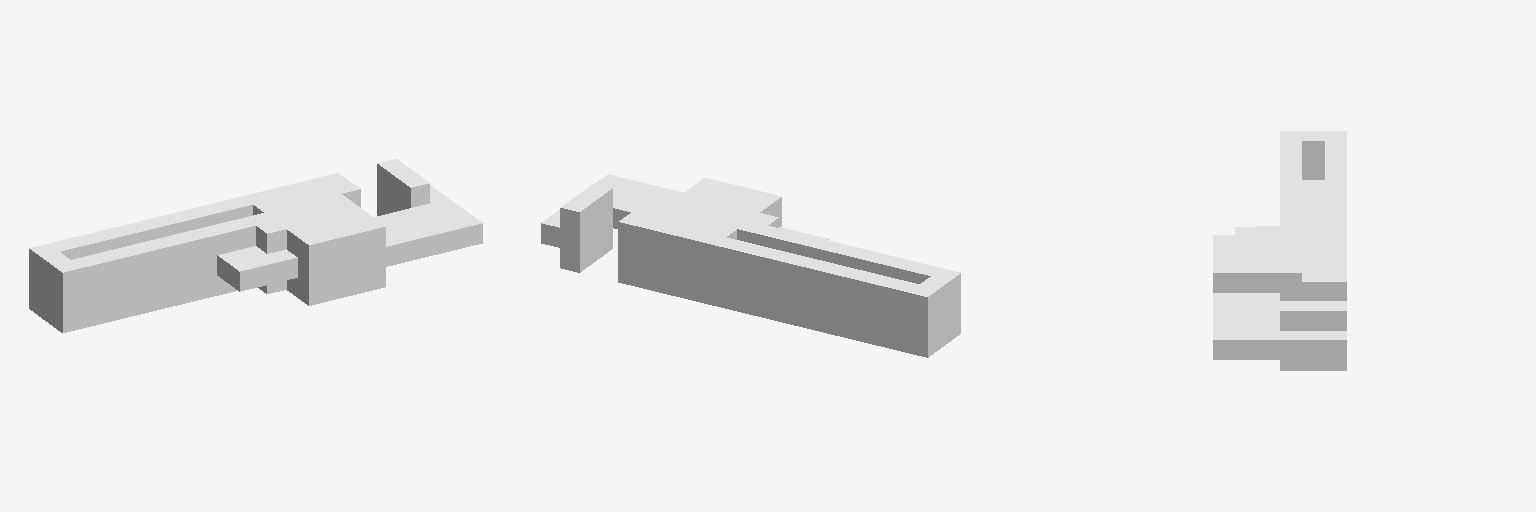
The model's file is Wrench.obj.
3 views of the same model, side by side, from view 1: azimuth 30°, elevation 25°; view 2: azimuth 150°, elevation 25°; view 3: azimuth 270°, elevation 25° (orthographic).
Visible parts, largest first — view 1: object 1; view 2: object 1; view 3: object 1.
Part boxes in pixels (x1,y1,x2,y2): object 1: (29,159,482,332); object 1: (541,174,960,357); object 1: (1213,131,1346,370).
Bounding box in the file's own units: 2 × 0.3 × 0.6.